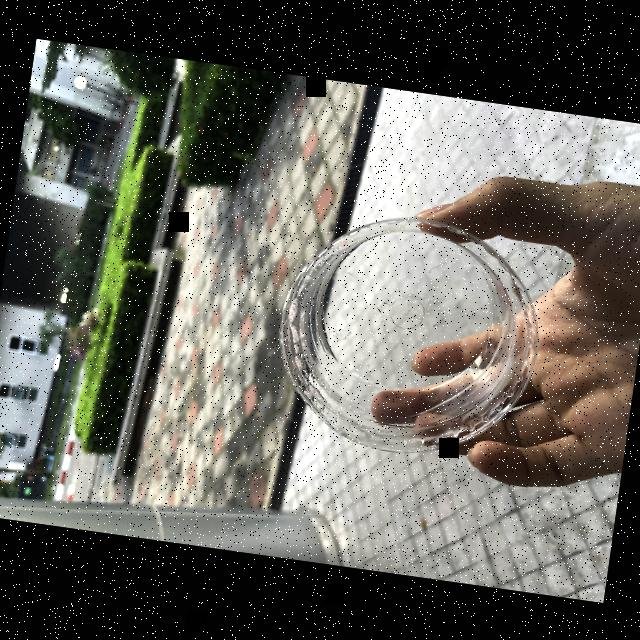plastic_cup_lid: (258, 190, 560, 483)
